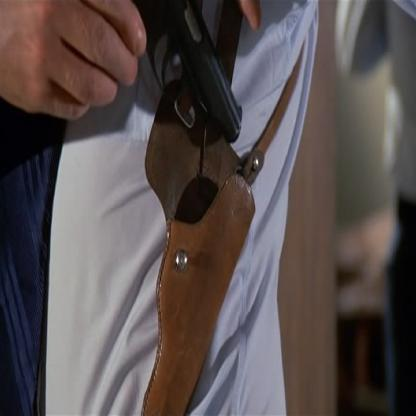gun: (134, 0, 258, 176)
